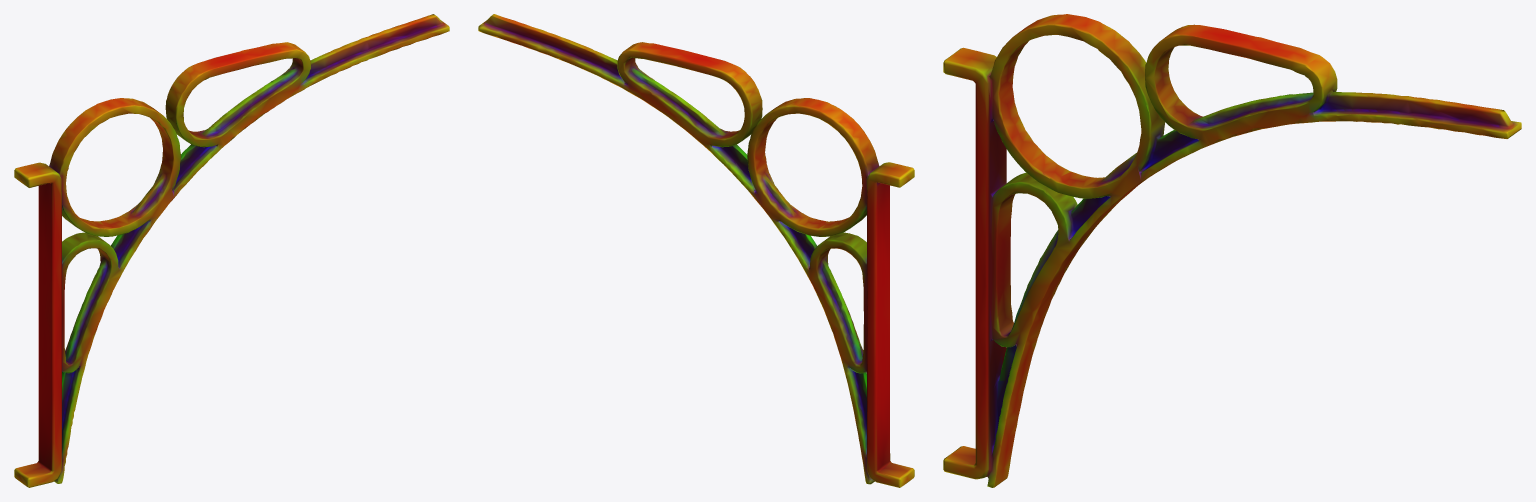
The model's file is FrameArches.fbx.
The picture shows the model from 3 angles, left to right: view 1: azimuth 30°, elevation 25°; view 2: azimuth 150°, elevation 25°; view 3: azimuth 330°, elevation 25°; orthographic projection. The views are drawn at different scales.
Parts seen in each view (by area): view 1: transform1; view 2: transform1; view 3: transform1.
Boxes of the visible parts, bbox=[...] form: transform1: bbox=[14, 14, 449, 487]; transform1: bbox=[478, 14, 914, 487]; transform1: bbox=[943, 14, 1521, 487].
Bounding box in the file's own units: 251 × 15.34 × 214.
